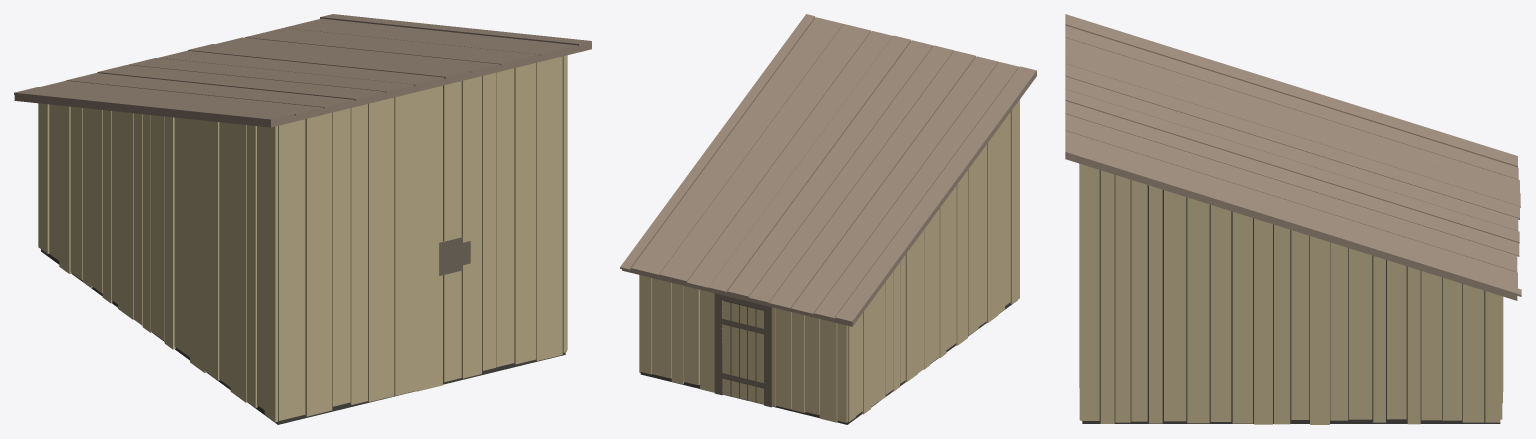
File: recon_1835_west_015__inferred_1835.glb
3 renders of one model, left to right at view 1: azimuth 30°, elevation 25°; view 2: azimuth 150°, elevation 25°; view 3: azimuth 270°, elevation 25°, orthographic. The views are drawn at different scales.
Visible parts, largest first — view 1: recon_1835_west_015__inferred_1835; view 2: recon_1835_west_015__inferred_1835; view 3: recon_1835_west_015__inferred_1835.
Boxes of the visible parts, x1,y1,x2,y2 form: recon_1835_west_015__inferred_1835: (14,14,591,424); recon_1835_west_015__inferred_1835: (620,14,1036,424); recon_1835_west_015__inferred_1835: (1065,14,1521,424).
Bounding box in the file's own units: 4.76 × 4.49 × 6.66.
